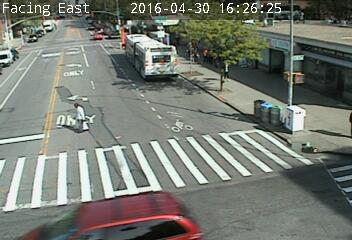neg: (117, 124, 148, 166), (6, 99, 32, 134), (288, 159, 310, 188), (186, 105, 206, 133), (213, 14, 233, 42), (44, 183, 64, 209), (23, 54, 41, 78), (290, 109, 308, 132), (214, 200, 232, 223), (97, 92, 114, 115), (57, 55, 74, 77), (109, 200, 125, 222), (255, 169, 271, 191), (143, 61, 159, 82), (258, 111, 273, 131), (112, 57, 126, 76), (77, 69, 90, 86), (110, 22, 121, 37), (319, 121, 329, 135), (72, 21, 82, 34), (207, 170, 216, 183)
pos: (65, 101, 90, 134), (219, 58, 237, 83)
